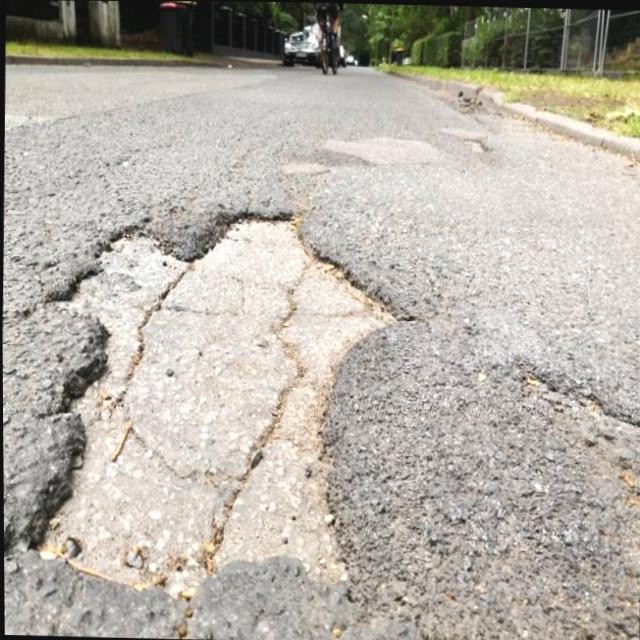Pothole: (44, 220, 390, 596)
